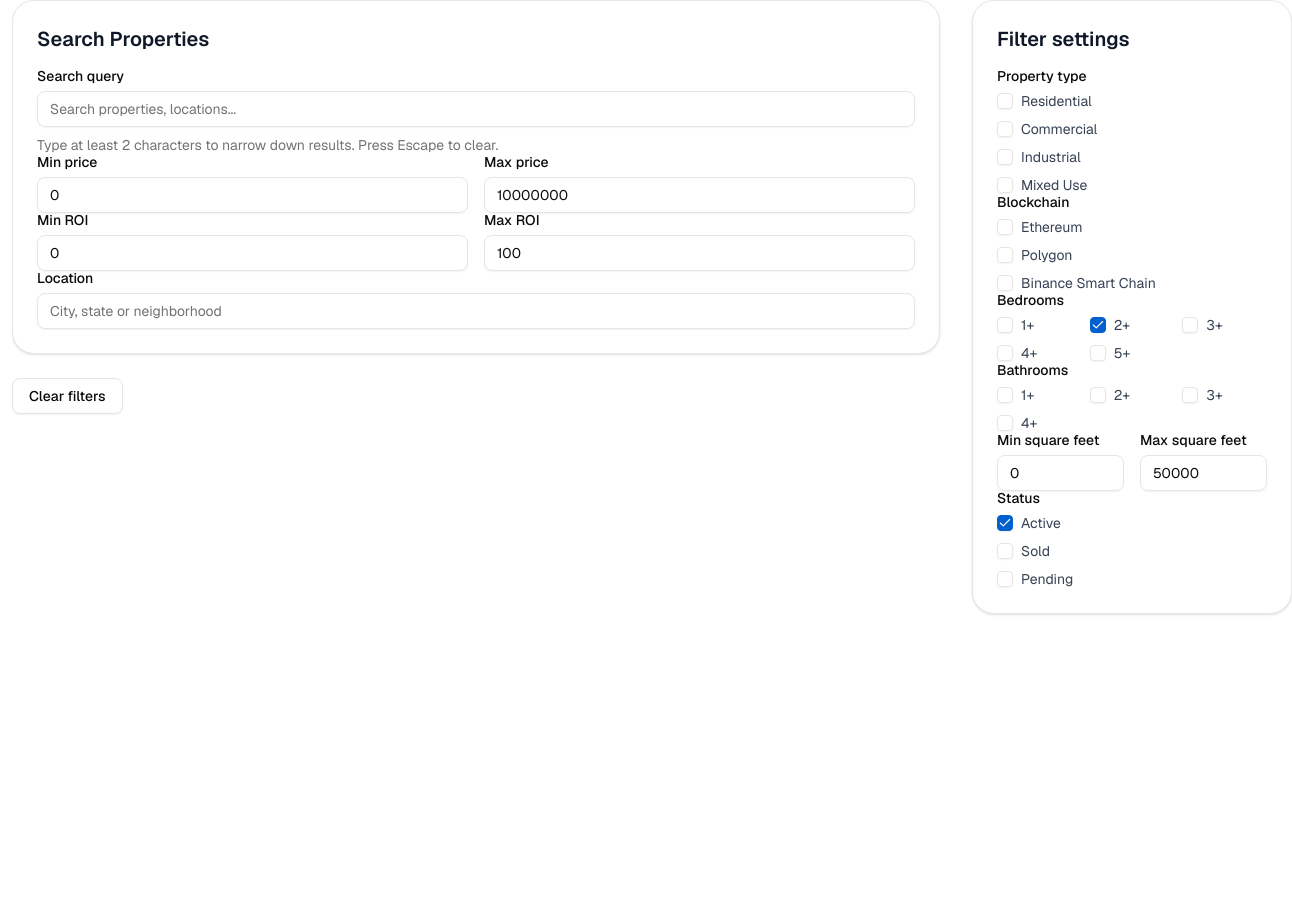
SearchFilterForm emitting › resets the form and notifies the parent on Clear filters
The image size is (1292, 900).
Click the button "Clear filters" at (67, 396), box [12,378,122,414]
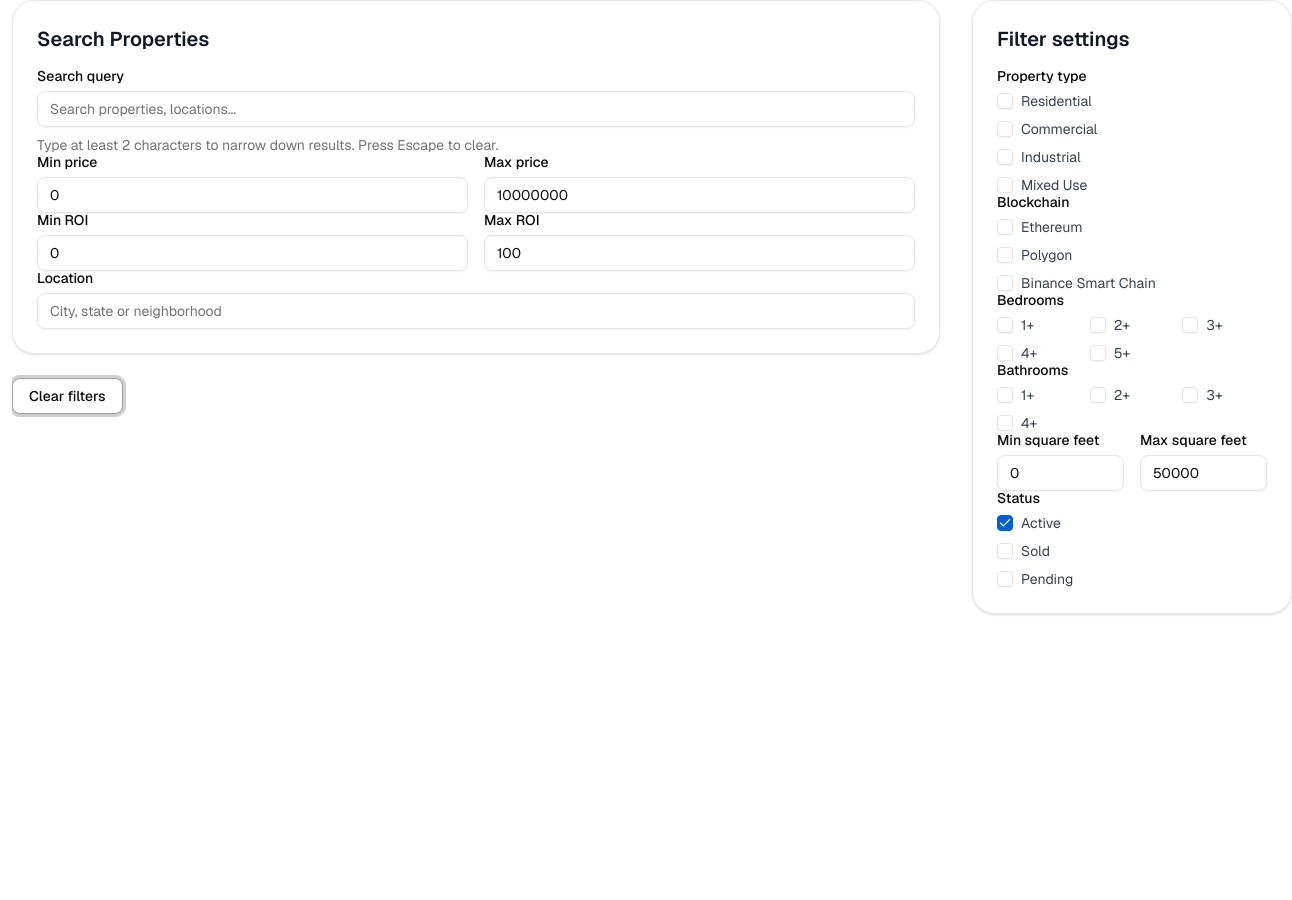
Result: the 9th checkbox named "2+" is not checked at [1090,317,1106,333]
